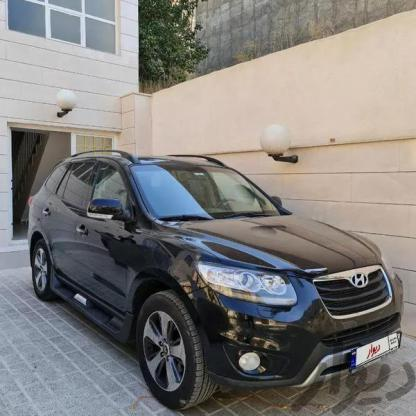Car: (25, 150, 407, 414)
